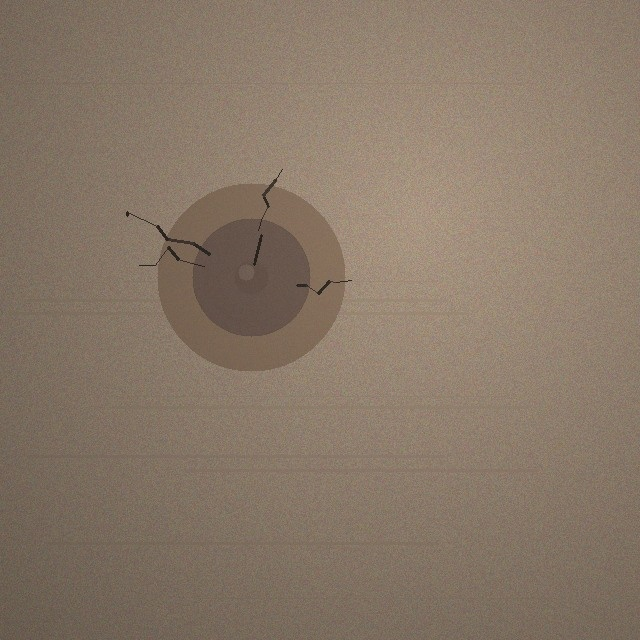crack: (157, 183, 345, 371)
